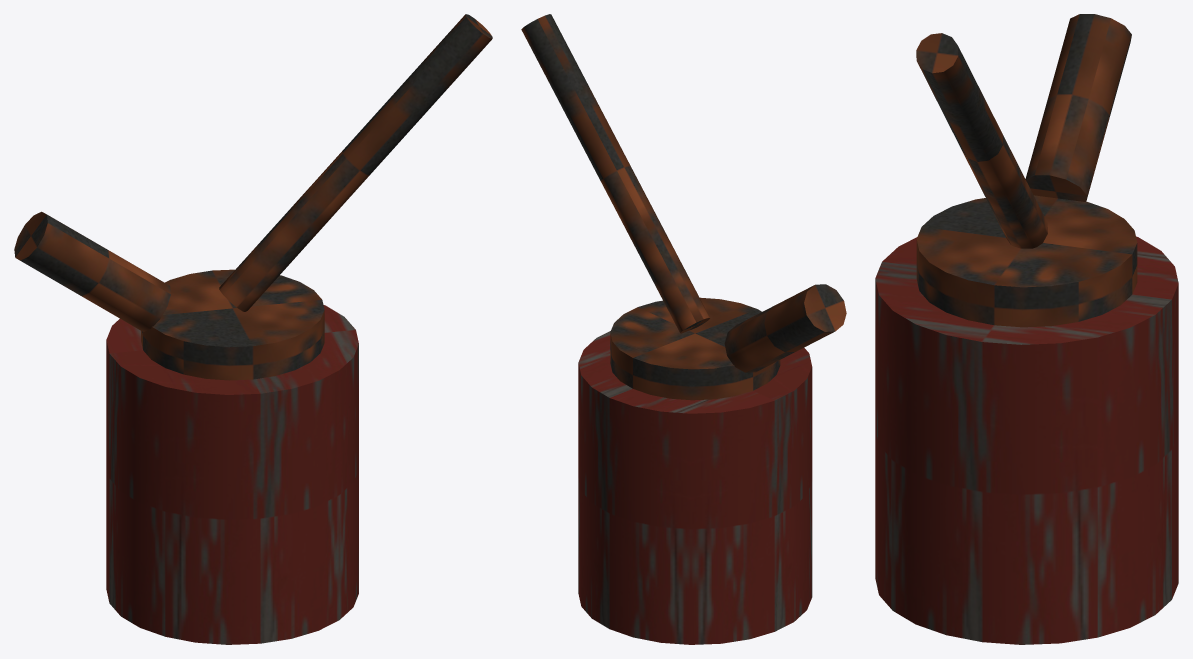
The model's file is SM_MachineOilCan_f35ec71141.fbx.
3 renders of one model, left to right at view 1: azimuth 30°, elevation 25°; view 2: azimuth 150°, elevation 25°; view 3: azimuth 270°, elevation 25°, orthographic. The views are drawn at different scales.
Parts seen in each view (by area): view 1: SM_MachineOilCan_f35ec71141; view 2: SM_MachineOilCan_f35ec71141; view 3: SM_MachineOilCan_f35ec71141.
Boxes of the visible parts, bbox=[...] form: SM_MachineOilCan_f35ec71141: bbox=[14, 14, 492, 644]; SM_MachineOilCan_f35ec71141: bbox=[521, 14, 846, 644]; SM_MachineOilCan_f35ec71141: bbox=[875, 14, 1178, 644].
Size of what is drawn, in the model's own units: 20.47 by 10.99 by 26.54.
2 materials, 2 textured.
